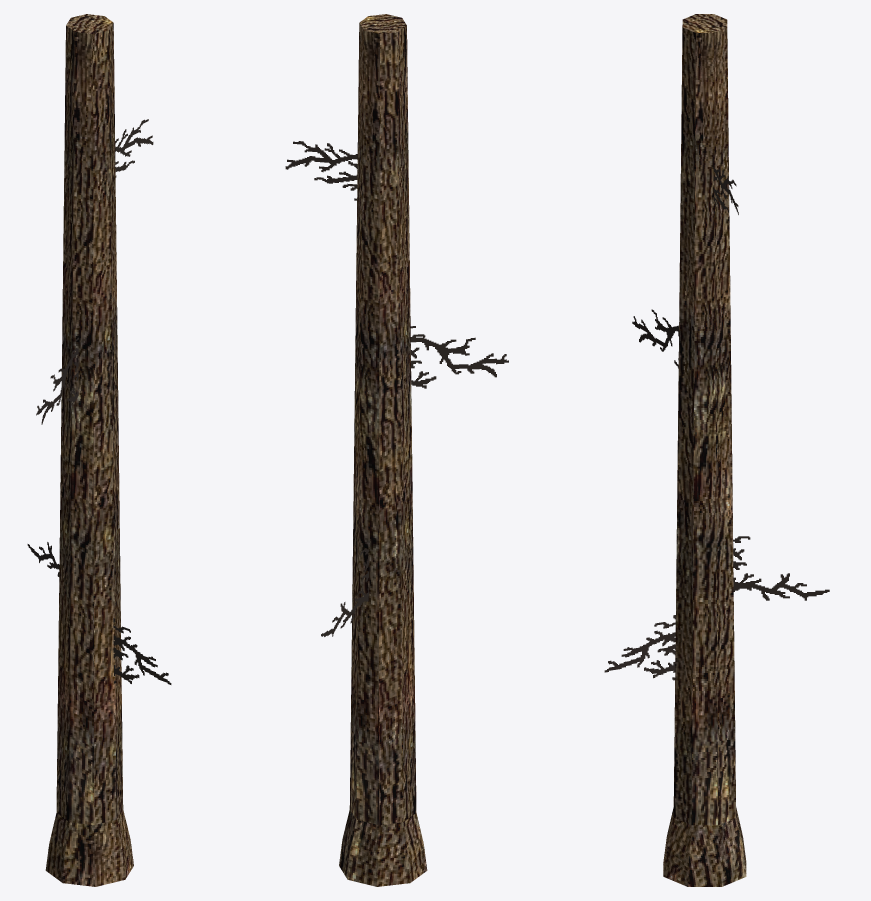
The model's file is TreeTrunk.glb.
3 views of the same model, side by side, from view 1: azimuth 30°, elevation 25°; view 2: azimuth 150°, elevation 25°; view 3: azimuth 270°, elevation 25° (orthographic).
Visible parts, largest first — view 1: Cube, Plane.003, Plane.002, Plane.001; view 2: Cube, Plane.002, Plane.001, Plane; view 3: Cube, Plane.003, Plane, Plane.002.
Boxes of the visible parts, x1,y1,x2,y2 form: Cube: (45,14,133,886); Plane.003: (113,618,171,684); Plane.002: (36,337,78,424); Plane.001: (115,119,153,177); Cube: (339,14,427,886); Plane.002: (410,326,508,388); Plane.001: (285,141,357,200); Plane: (321,548,368,636); Cube: (663,14,746,886); Plane.003: (604,615,675,680); Plane: (733,536,829,600); Plane.002: (632,309,678,368).
Bounding box in the file's own units: 3.44 × 12.04 × 3.79.
Materials: 1 (1 with a texture image).
